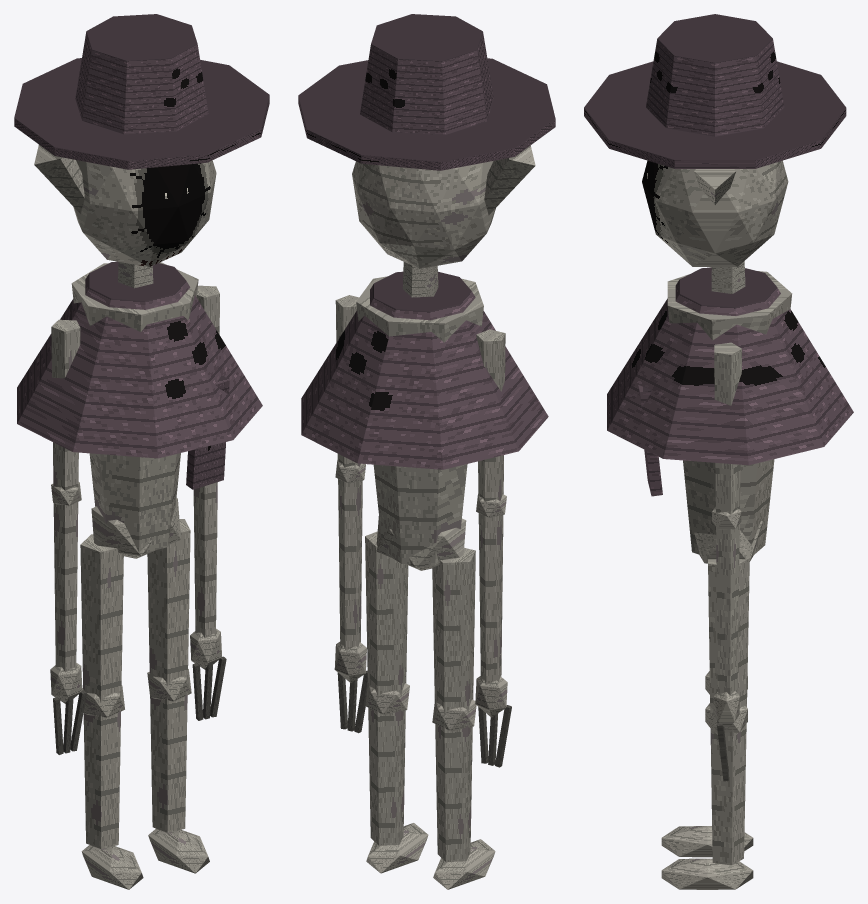
Rendered from pell.glb.
The picture shows the model from 3 angles, left to right: view 1: azimuth 30°, elevation 25°; view 2: azimuth 150°, elevation 25°; view 3: azimuth 270°, elevation 25°; orthographic projection.
Visible parts, largest first — view 1: torso, head, leg-left, leg-right, arm-left, arm-right; view 2: torso, head, leg-left, leg-right, arm-left, arm-right; view 3: head, torso, leg-right, arm-right, leg-left.
Boxes of the visible parts, <box> form: torso: <box>17,261,262,558</box>; head: <box>14,14,269,267</box>; leg-left: <box>80,534,143,889</box>; leg-right: <box>147,519,209,873</box>; arm-left: <box>50,319,86,754</box>; arm-right: <box>190,285,226,720</box>; torso: <box>301,262,548,570</box>; head: <box>298,14,555,268</box>; leg-left: <box>432,548,495,889</box>; leg-right: <box>365,531,428,873</box>; arm-left: <box>475,329,511,767</box>; arm-right: <box>334,295,367,733</box>; head: <box>584,14,846,266</box>; torso: <box>607,261,853,563</box>; leg-right: <box>661,557,753,889</box>; arm-right: <box>712,342,741,781</box>; leg-left: <box>661,671,753,857</box>.
Size of the model in its own units: 0.65 by 2.39 by 0.7.
Materials: 1 (1 with a texture image).
